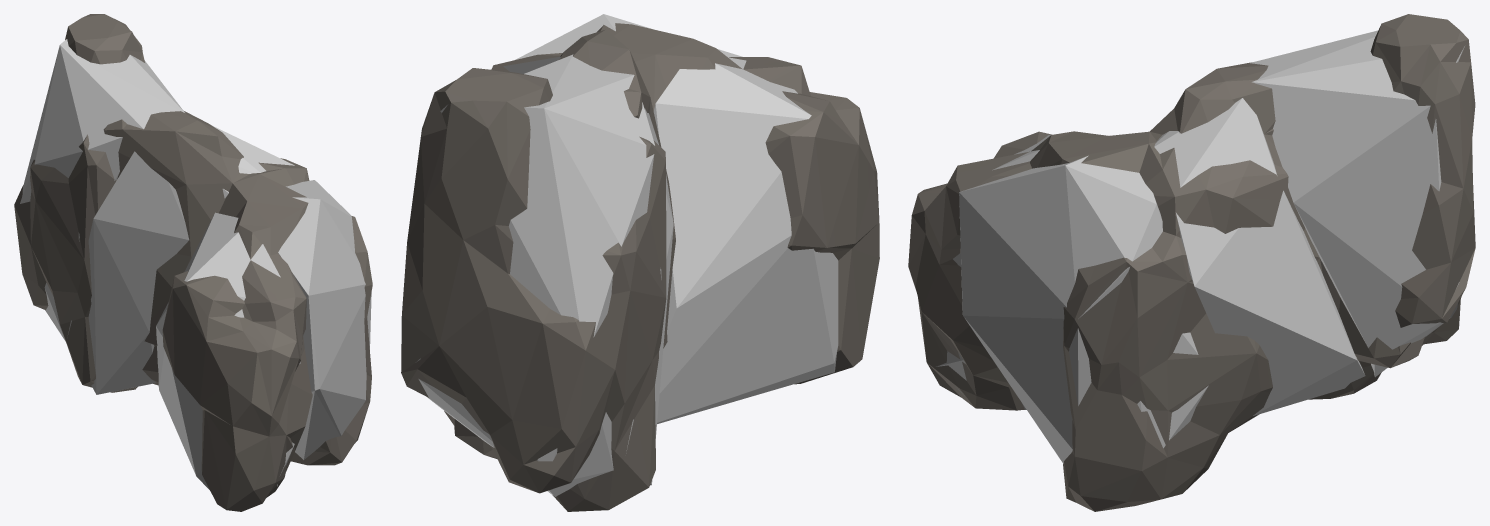
Rendered from SM_Env_Rock_Cliff_03.fbx.
3 renders of one model, left to right at view 1: azimuth 30°, elevation 25°; view 2: azimuth 150°, elevation 25°; view 3: azimuth 270°, elevation 25°, orthographic. The views are drawn at different scales.
Parts seen in each view (by area): view 1: SM_Env_Rock_Cliff_03, SM_Env_Rock_Cliff_03_ConvexHulls; view 2: SM_Env_Rock_Cliff_03, SM_Env_Rock_Cliff_03_ConvexHulls; view 3: SM_Env_Rock_Cliff_03_ConvexHulls, SM_Env_Rock_Cliff_03.
Boxes of the visible parts, <box> form: SM_Env_Rock_Cliff_03: <box>14,14,372,511</box>; SM_Env_Rock_Cliff_03_ConvexHulls: <box>20,39,371,489</box>; SM_Env_Rock_Cliff_03: <box>401,23,879,511</box>; SM_Env_Rock_Cliff_03_ConvexHulls: <box>415,14,838,496</box>; SM_Env_Rock_Cliff_03_ConvexHulls: <box>936,30,1464,463</box>; SM_Env_Rock_Cliff_03: <box>908,14,1475,511</box>.
Size of the model in its own units: 1225 by 2310 by 1881.
2 materials, 1 textured.
